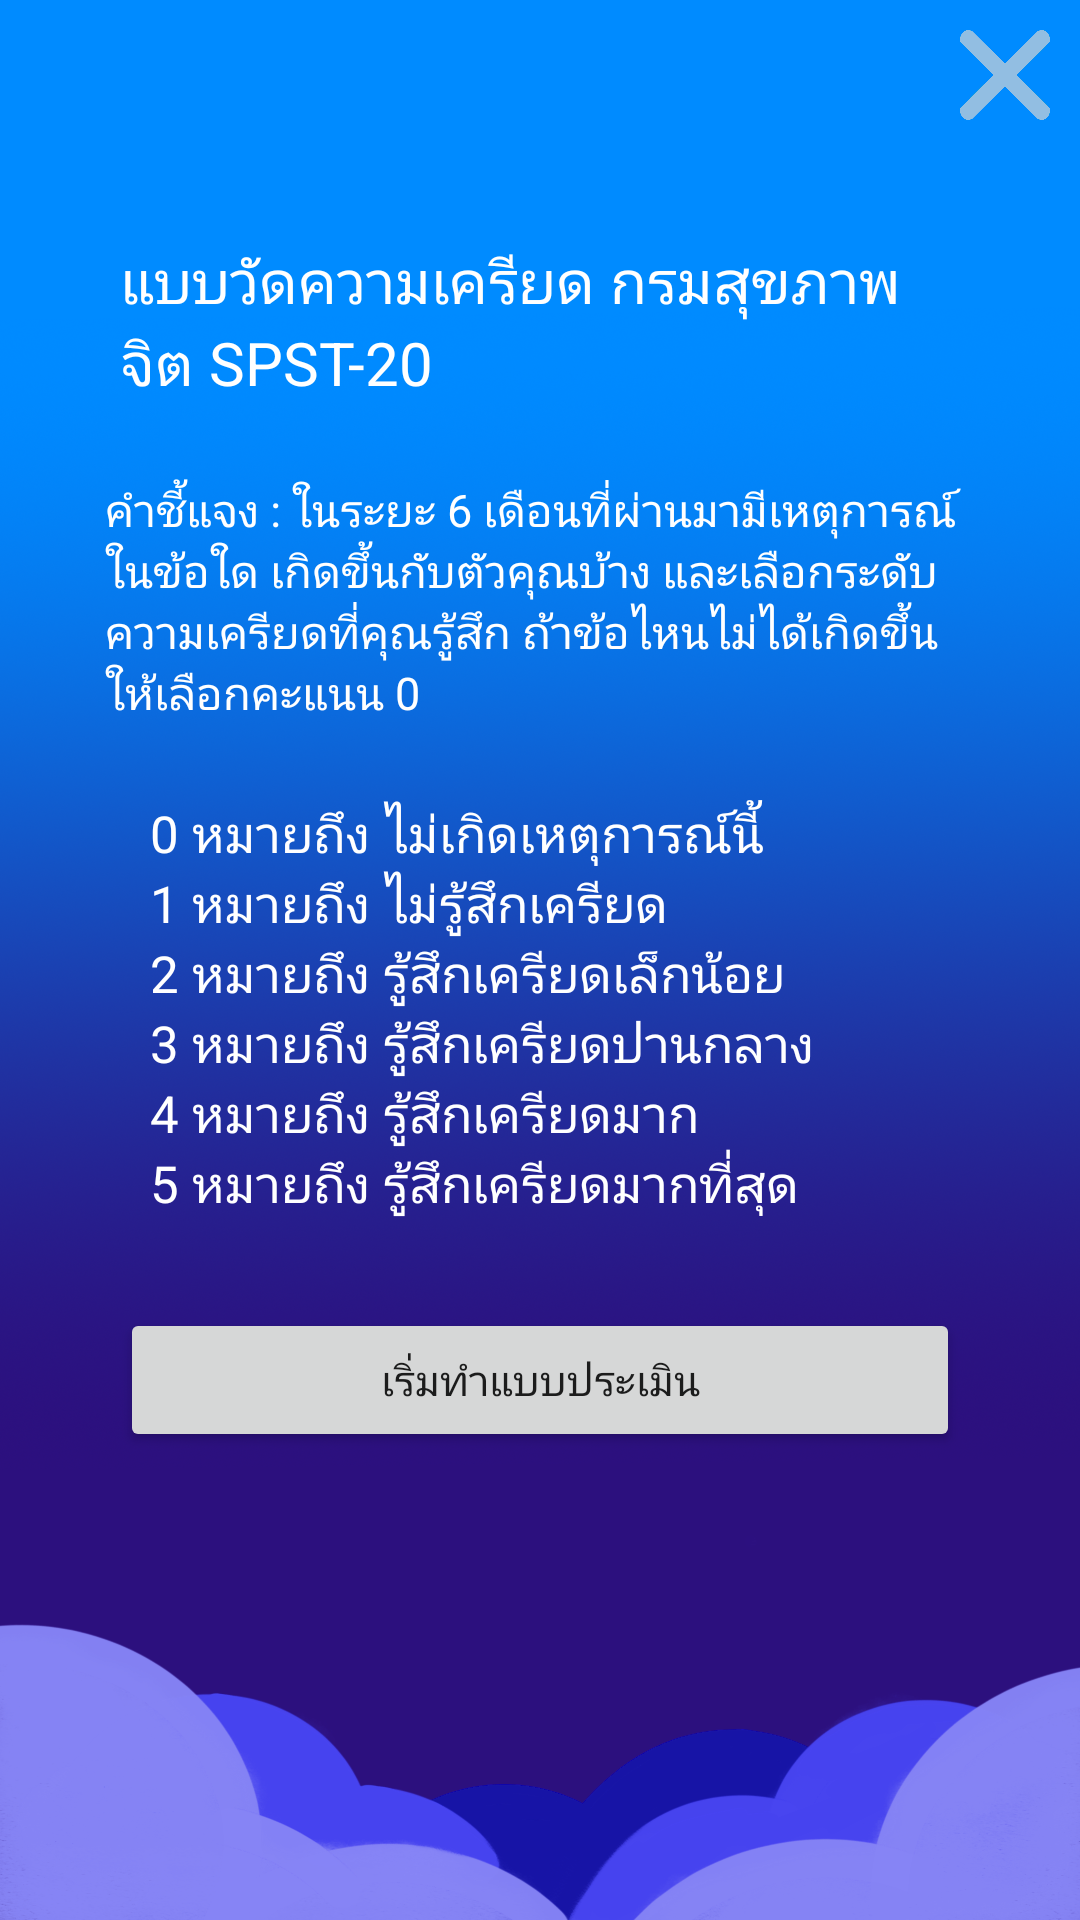

Where icons sit on this 1080*1920 app screen, as (x1, y1, x2, y2):
exit: (960, 30, 1050, 120)
